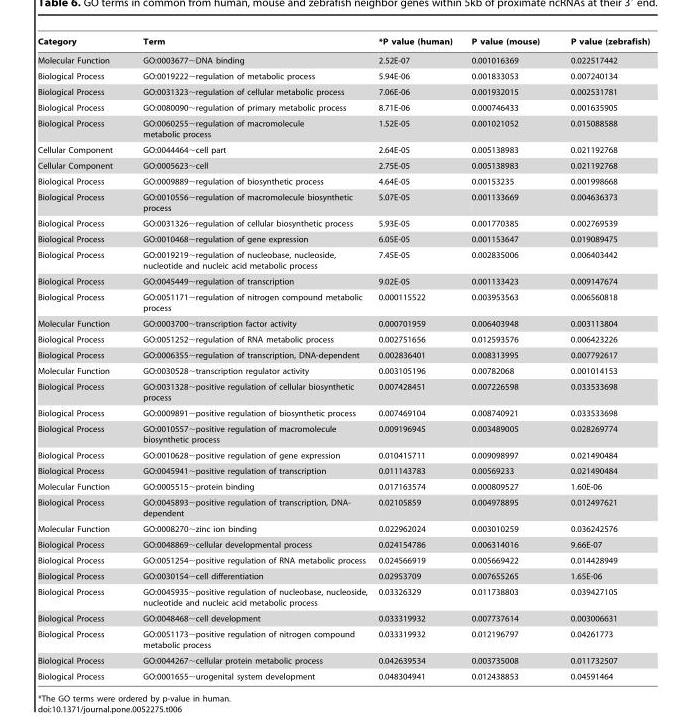table: (36, 36, 649, 680)
table column: (127, 36, 372, 680), (554, 36, 649, 680), (461, 36, 554, 680), (36, 36, 127, 680), (372, 36, 461, 680)
table column header: (36, 36, 649, 49)
table row: (36, 377, 649, 404), (36, 419, 649, 446), (36, 114, 649, 140), (36, 188, 649, 214), (36, 246, 649, 272), (36, 288, 649, 314), (36, 493, 649, 519), (36, 583, 649, 609), (36, 625, 649, 651), (36, 49, 649, 67), (36, 67, 649, 83), (36, 98, 649, 114), (36, 140, 649, 156), (36, 156, 649, 172), (36, 172, 649, 188), (36, 214, 649, 230), (36, 230, 649, 246), (36, 272, 649, 288), (36, 314, 649, 330), (36, 330, 649, 346), (36, 346, 649, 362), (36, 446, 649, 462), (36, 477, 649, 493), (36, 519, 649, 535), (36, 535, 649, 551), (36, 551, 649, 567), (36, 567, 649, 583), (36, 609, 649, 625), (36, 651, 649, 667), (36, 83, 649, 98), (36, 362, 649, 377), (36, 404, 649, 419), (36, 462, 649, 477), (36, 36, 649, 49), (36, 667, 649, 680)
